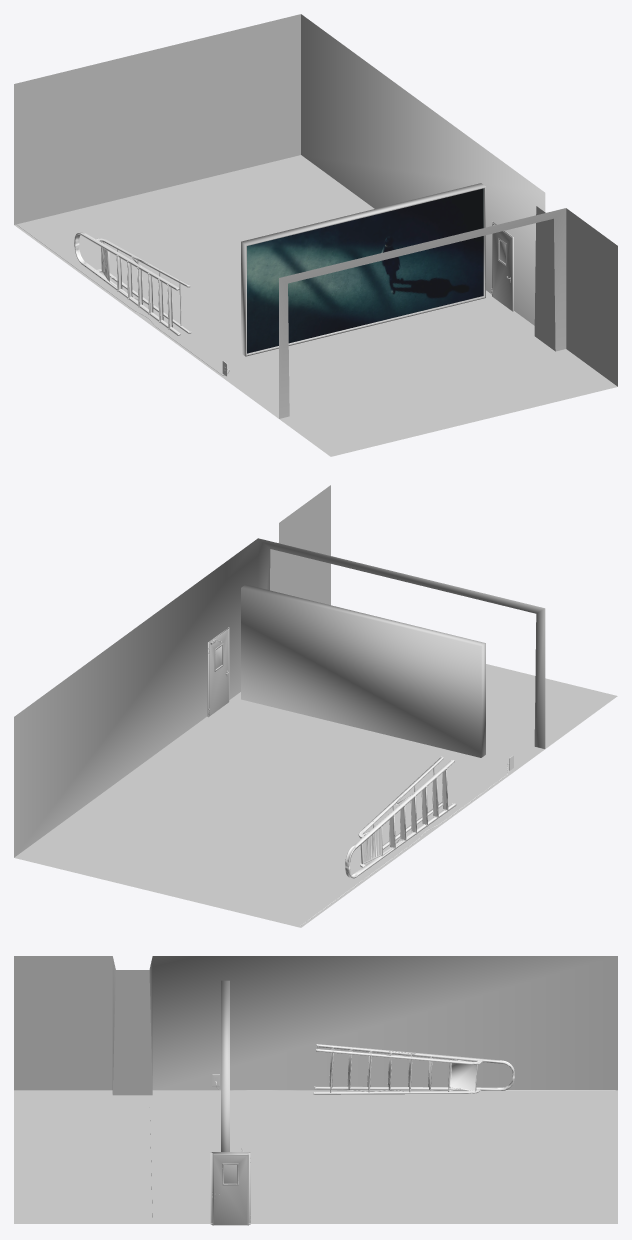
3 renders of one model, top to bottom at view 1: azimuth 30°, elevation 25°; view 2: azimuth 150°, elevation 25°; view 3: azimuth 270°, elevation 25°, orthographic. The views are drawn at different scales.
Parts seen in each view (by area): view 1: room, baseplane, tv, screen, ladder, Door; view 2: baseplane, room, screen, ladder, Door; view 3: room, baseplane, ladder, Door, screen, wires.
Part boxes in pixels (x1,y1,x2,y2): room: (14, 14, 617, 418); baseplane: (14, 155, 617, 456); tv: (247, 188, 483, 353); screen: (241, 183, 485, 356); ladder: (74, 232, 191, 335); Door: (491, 221, 513, 311); baseplane: (14, 664, 617, 927); room: (14, 485, 545, 857); screen: (241, 584, 485, 757); ladder: (345, 756, 456, 878); Door: (207, 627, 229, 717); room: (14, 956, 617, 1217); baseplane: (14, 1090, 617, 1223); ladder: (313, 1044, 514, 1094); Door: (210, 1148, 250, 1225); screen: (221, 980, 229, 1151); wires: (212, 1074, 615, 1091).
Bounding box in the file's own units: 4.28 × 2.02 × 8.15.
Materials: 5 (1 with a texture image).
